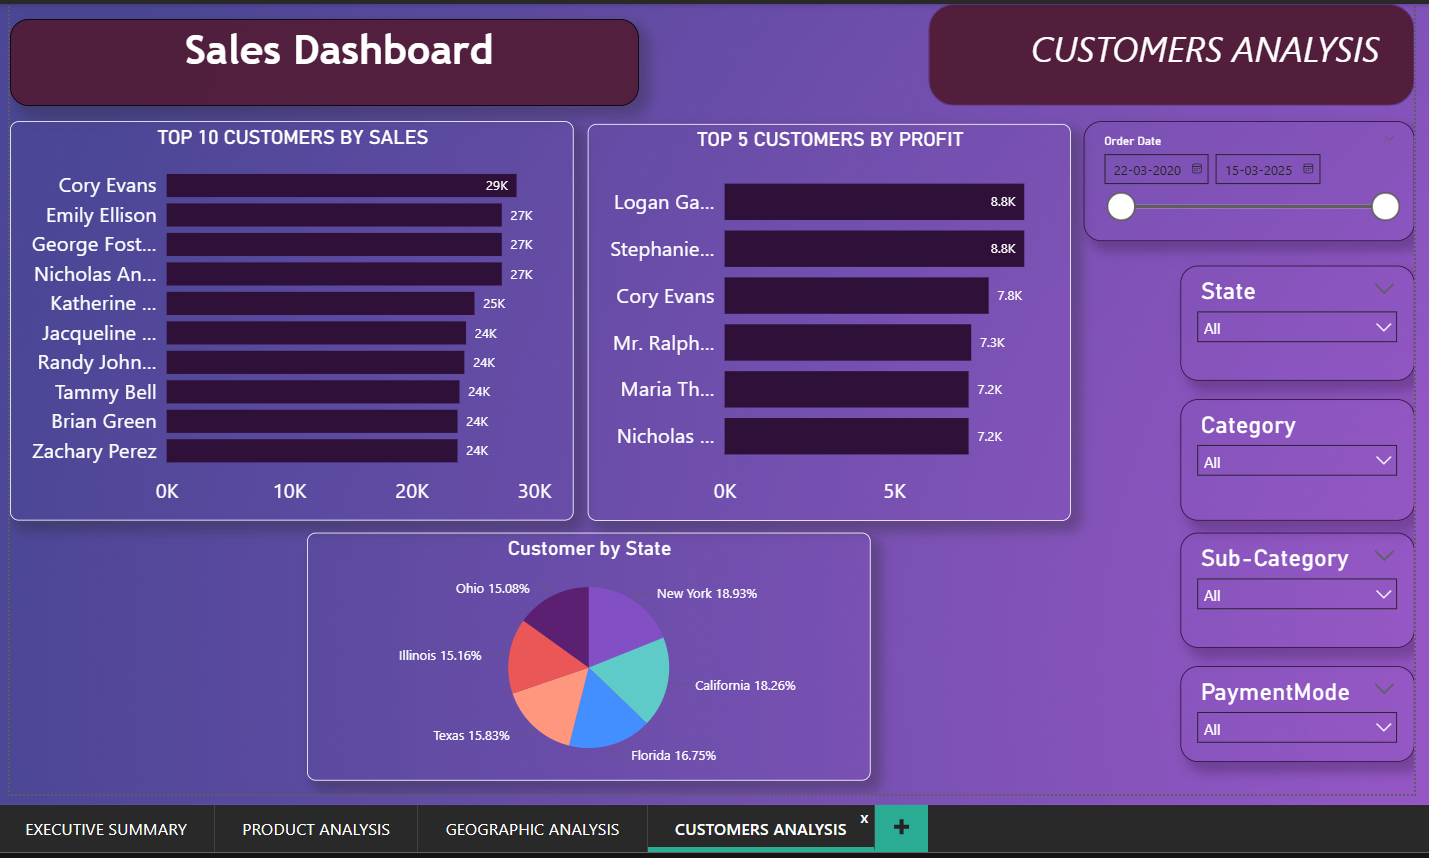

The page's visual inventory and layout, read from the dashboard file:
{"tool":"powerbi","page":{"name":"CUSTOMERS ANALYSIS","canvas":[1280,720],"ordinal":3},"visuals":[{"type":"textbox","box":[0,13.4,573.2,79],"z":0},{"type":"slicer","fields":{"Values":["Sales Dataset.Order Date"]},"box":[978.1,106.7,302,109.4],"z":1000},{"type":"slicer","fields":{"Values":["Sales Dataset.Category"]},"box":[1066.7,360.2,213.3,110.8],"z":2000},{"type":"slicer","fields":{"Values":["Sales Dataset.Sub-Category"]},"box":[1066.7,482.1,213.3,105.3],"z":3000},{"type":"slicer","fields":{"Values":["Sales Dataset.State"]},"box":[1066.7,238.3,213.3,105.3],"z":4000},{"type":"slicer","fields":{"Values":["Sales Dataset.PaymentMode"]},"box":[1066.7,604,213.3,87.3],"z":5000},{"type":"shape","box":[836.8,0,443.3,92.8],"z":6000},{"type":"textbox","box":[786.2,13.2,467.4,54.5],"z":7000},{"type":"clusteredBarChart","title":"TOP 10 CUSTOMERS BY SALES","fields":{"Y":["Sales Dataset.TOTAL SALES"],"Category":["Sales Dataset.CustomerName"]},"box":[0,106.7,514,364.4],"z":8000},{"type":"clusteredBarChart","title":"TOP 5 CUSTOMERS BY PROFIT","fields":{"Category":["Sales Dataset.CustomerName"],"Y":["Sum(Sales Dataset.Profit)"]},"box":[526.4,109.4,440.5,361.6],"z":8001},{"type":"pieChart","title":"Customer by State","fields":{"Y":["CountNonNull(Sales Dataset.CustomerName)"],"Category":["Sales Dataset.State"]},"box":[270.1,482.1,514,225.8],"z":8002}]}

Visuals, with their boxes on the page's 1280x720 design canvas (x1, y1, x2, y2). These are canvas units, not pixel positions in the 1429x858 screenshot, which may show the page scaled, cropped or inside an application window:
textbox: region(0, 13, 573, 92)
slicer - Sales Dataset.Order Date: region(978, 107, 1280, 216)
slicer - Sales Dataset.Category: region(1067, 360, 1280, 471)
slicer - Sales Dataset.Sub-Category: region(1067, 482, 1280, 587)
slicer - Sales Dataset.State: region(1067, 238, 1280, 344)
slicer - Sales Dataset.PaymentMode: region(1067, 604, 1280, 691)
shape: region(837, 0, 1280, 93)
textbox: region(786, 13, 1254, 68)
"TOP 10 CUSTOMERS BY SALES" clusteredBarChart: region(0, 107, 514, 471)
"TOP 5 CUSTOMERS BY PROFIT" clusteredBarChart: region(526, 109, 967, 471)
"Customer by State" pieChart: region(270, 482, 784, 708)
